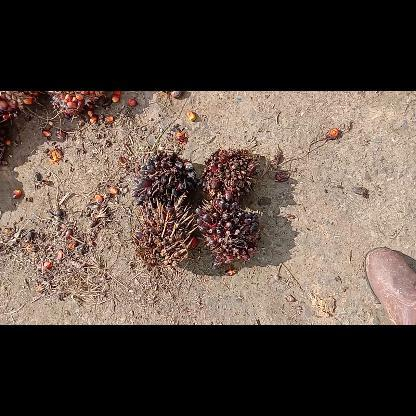TBS abnormal: (131, 192, 199, 268), (194, 200, 260, 268), (133, 151, 197, 213), (201, 148, 259, 202)
